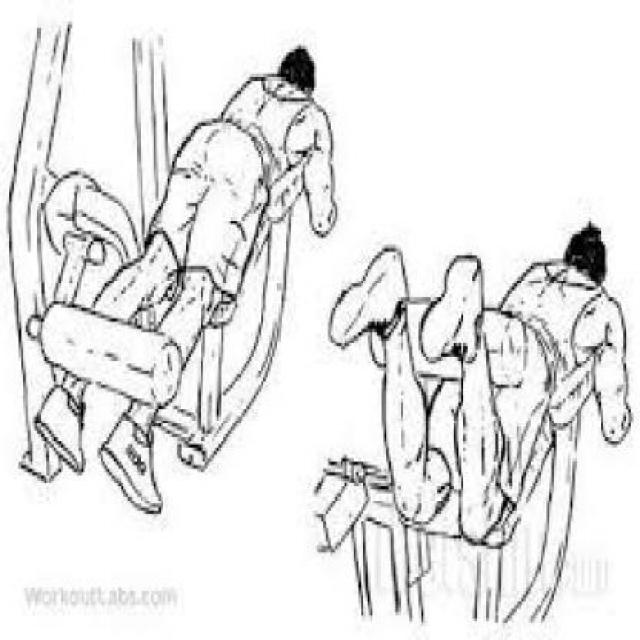reg curl machine: (7, 20, 336, 517), (312, 226, 632, 625)
